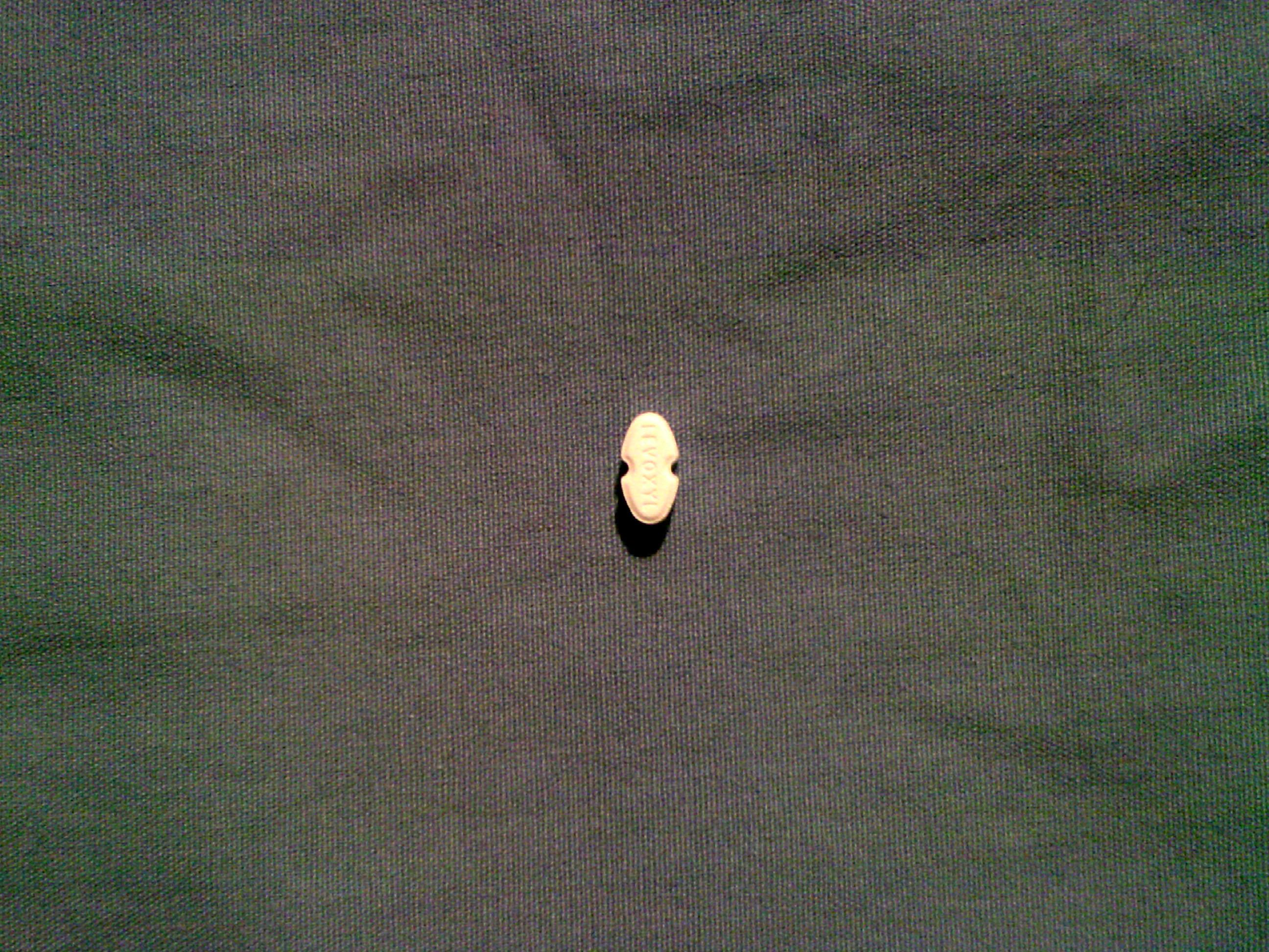Pill: (610, 402, 692, 539)
